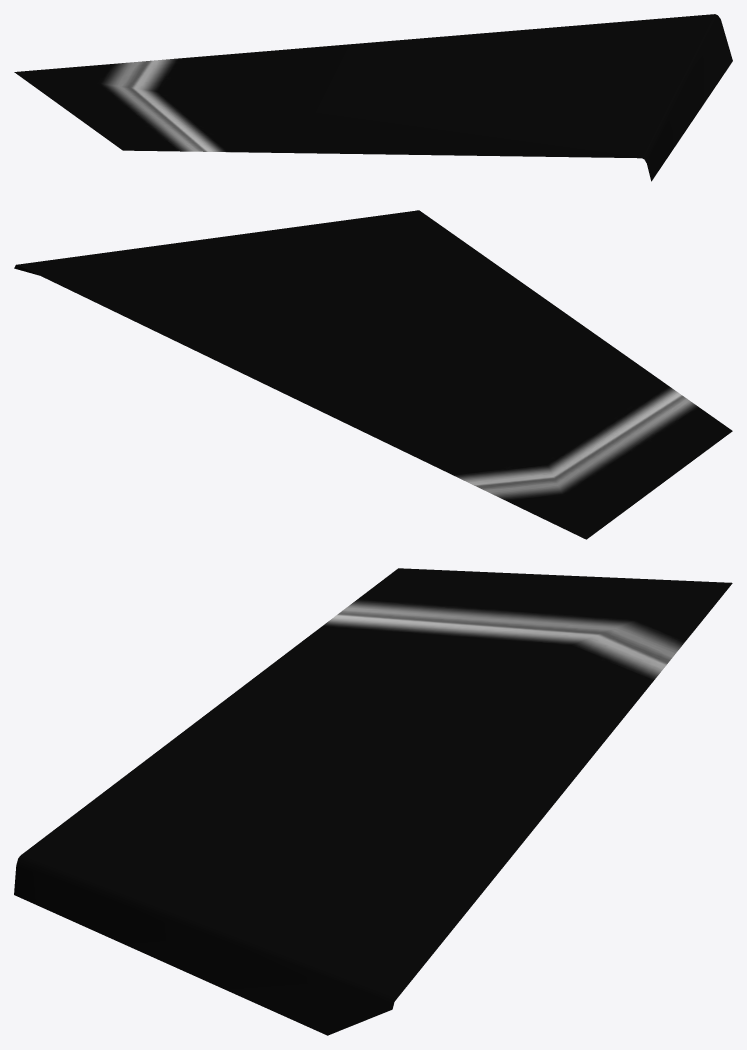
The picture shows the model from 3 angles, top to bottom: view 1: azimuth 30°, elevation 25°; view 2: azimuth 150°, elevation 25°; view 3: azimuth 270°, elevation 25°; orthographic projection. The views are drawn at different scales.
Visible parts, largest first — view 1: SM_VFX_Garou_Thane_ShieldSheen_LOD0; view 2: SM_VFX_Garou_Thane_ShieldSheen_LOD0; view 3: SM_VFX_Garou_Thane_ShieldSheen_LOD0.
Part boxes in pixels (<box>): SM_VFX_Garou_Thane_ShieldSheen_LOD0: <box>14,14,732,181</box>; SM_VFX_Garou_Thane_ShieldSheen_LOD0: <box>14,210,732,539</box>; SM_VFX_Garou_Thane_ShieldSheen_LOD0: <box>14,568,732,1035</box>.
Size of the model in its own units: 45.73 by 2.6 by 32.85.
